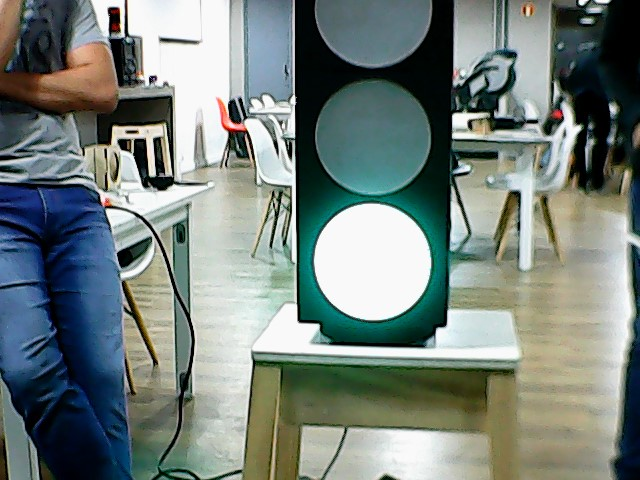verde: (286, 1, 457, 337)
